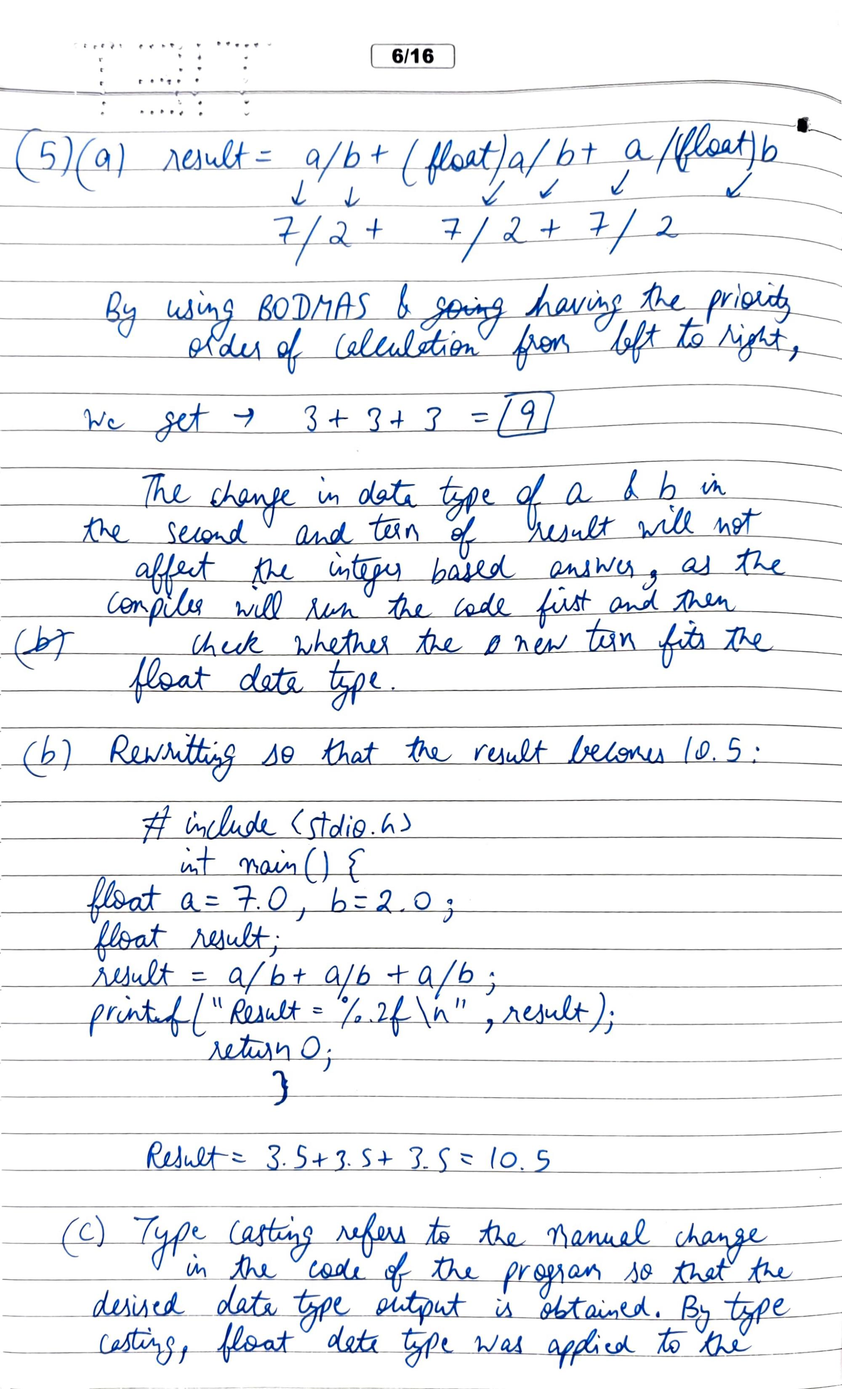cuttings: (419, 295, 508, 341), (13, 624, 77, 671)
